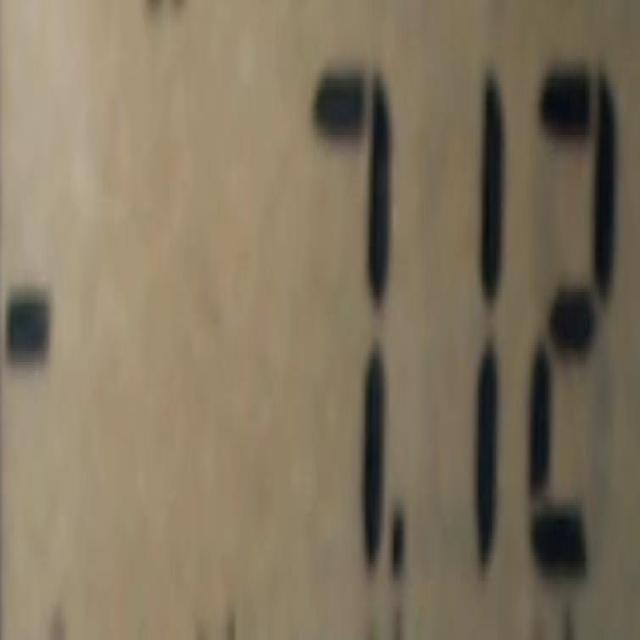.: (4, 286, 54, 362), (388, 490, 408, 585)
1: (471, 52, 507, 569)
2: (527, 55, 619, 583)
7: (311, 51, 401, 598)
